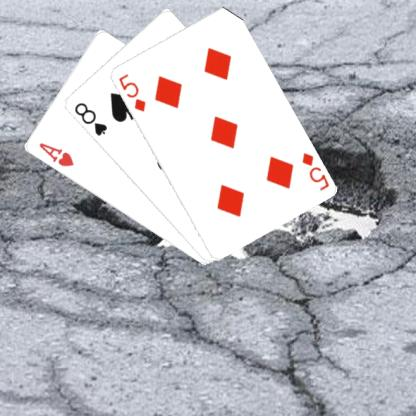5D: (298, 149, 330, 192), (115, 71, 147, 113)
8S: (71, 99, 108, 138)
AH: (36, 140, 76, 168)
